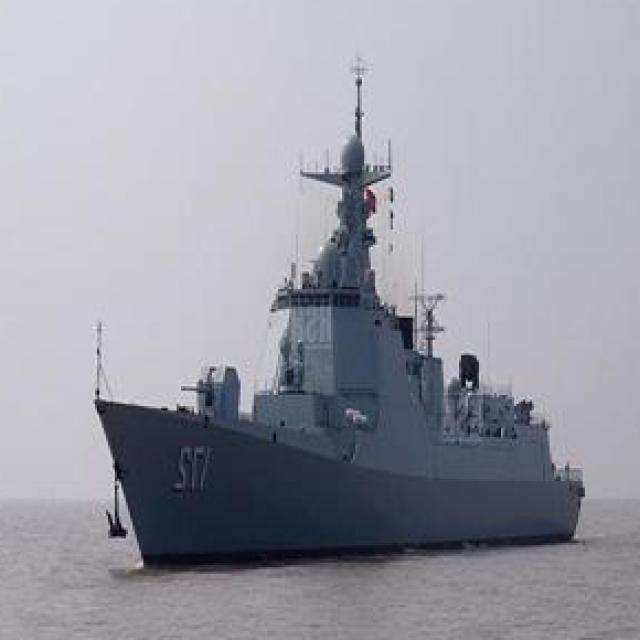navalvessels: (90, 62, 585, 575)
